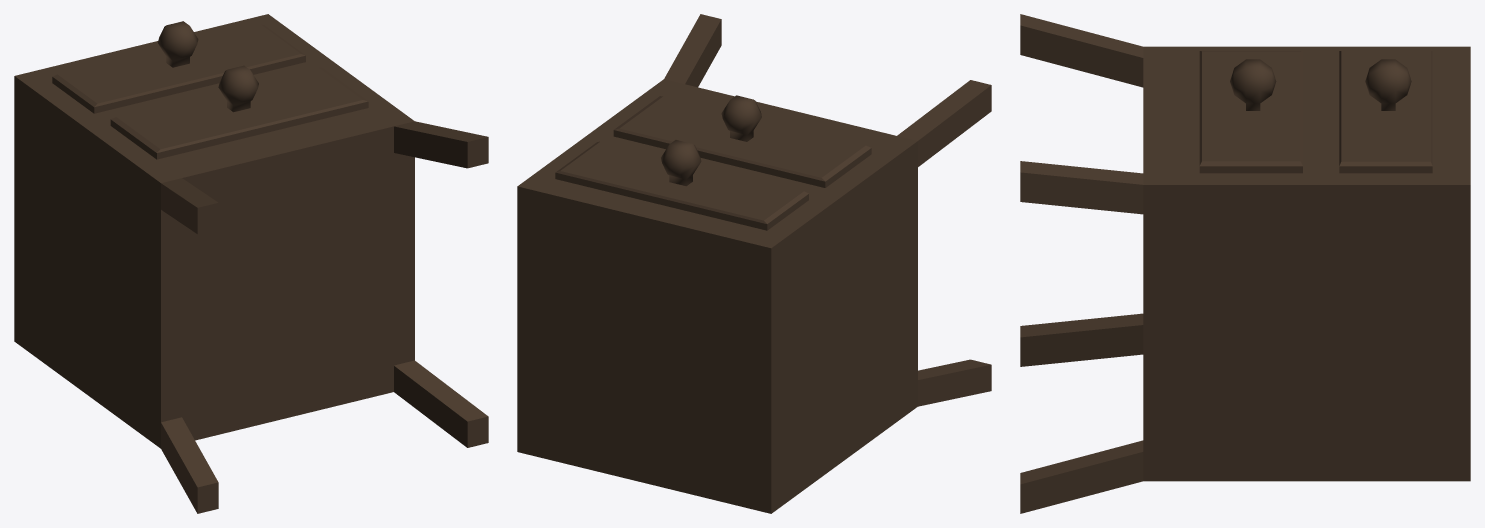
The model's file is nightstand.FBX.
3 views of the same model, side by side, from view 1: azimuth 30°, elevation 25°; view 2: azimuth 150°, elevation 25°; view 3: azimuth 270°, elevation 25° (orthographic). The views are drawn at different scales.
Parts seen in each view (by area): view 1: nightstand; view 2: nightstand; view 3: nightstand.
Boxes of the visible parts, x1=… form: nightstand: x1=14, y1=14, x2=488, y2=513; nightstand: x1=517, y1=14, x2=991, y2=513; nightstand: x1=1020, y1=14, x2=1470, y2=513.
Size of the model in its own units: 2.29 by 2.75 by 2.5.
